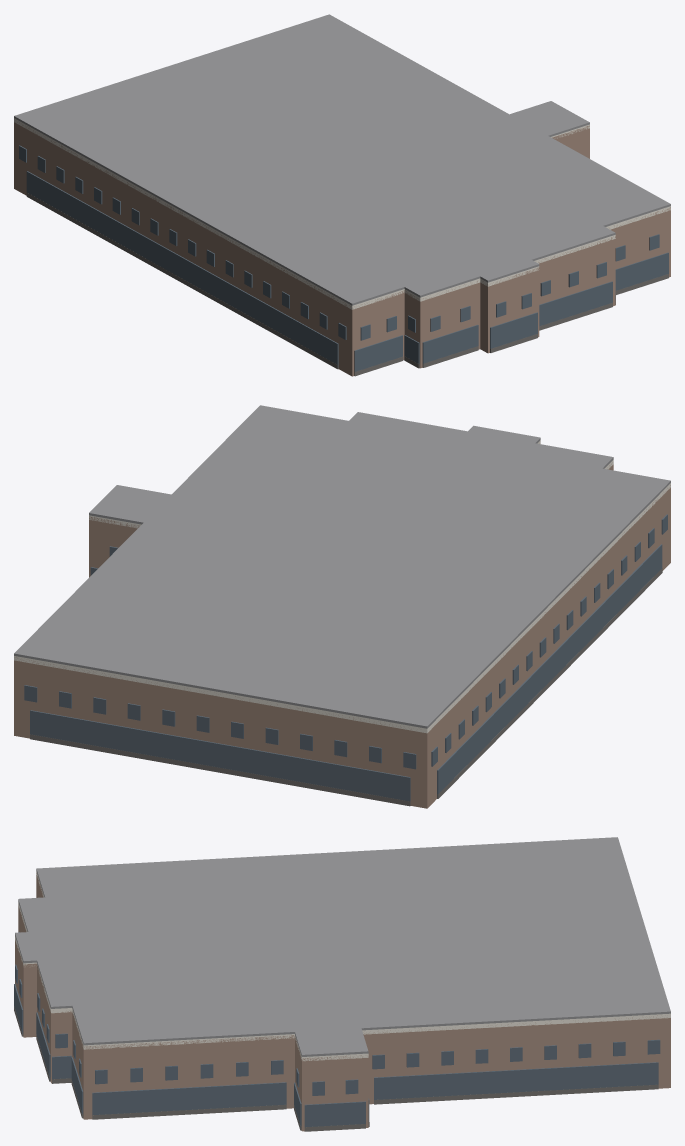
The model's file is s12_gis_247954_820579.glb.
3 renders of one model, top to bottom at view 1: azimuth 30°, elevation 25°; view 2: azimuth 150°, elevation 25°; view 3: azimuth 270°, elevation 25°, orthographic. The views are drawn at different scales.
Parts seen in each view (by area): view 1: roofcap, mass, store_0, cornice, store_7, bulk_0, store_3, store_9, store_1, store_5; view 2: roofcap, mass, store_15, store_0, cornice, bulk_15, bulk_0; view 3: roofcap, mass, store_14, store_10, cornice, bulk_14, store_12, bulk_10, store_8.
Part boxes in pixels (x1=…): roofcap: x1=14, y1=14, x2=670, y2=305; mass: x1=14, y1=122, x2=670, y2=376; store_0: x1=26, y1=171, x2=338, y2=367; cornice: x1=14, y1=118, x2=670, y2=309; store_7: x1=539, y1=281, x2=612, y2=326; bulk_0: x1=26, y1=192, x2=338, y2=369; store_3: x1=422, y1=324, x2=478, y2=363; store_9: x1=615, y1=252, x2=668, y2=290; store_1: x1=354, y1=335, x2=402, y2=374; store_5: x1=490, y1=312, x2=537, y2=348; roofcap: x1=14, y1=405, x2=670, y2=728; mass: x1=14, y1=464, x2=670, y2=808; store_15: x1=30, y1=710, x2=410, y2=801; store_0: x1=437, y1=544, x2=662, y2=796; cornice: x1=14, y1=440, x2=670, y2=733; bulk_15: x1=30, y1=734, x2=410, y2=806; bulk_0: x1=437, y1=568, x2=662, y2=798; roofcap: x1=15, y1=837, x2=670, y2=1056; mass: x1=15, y1=873, x2=670, y2=1131; store_14: x1=374, y1=1062, x2=658, y2=1099; store_10: x1=92, y1=1082, x2=286, y2=1115; cornice: x1=15, y1=871, x2=670, y2=1061; bulk_14: x1=374, y1=1084, x2=658, y2=1104; store_12: x1=304, y1=1101, x2=365, y2=1127; bulk_10: x1=92, y1=1104, x2=286, y2=1119; store_8: x1=52, y1=1055, x2=71, y2=1079.
Size of the model in its own units: 51.13 by 8.35 by 65.04.
